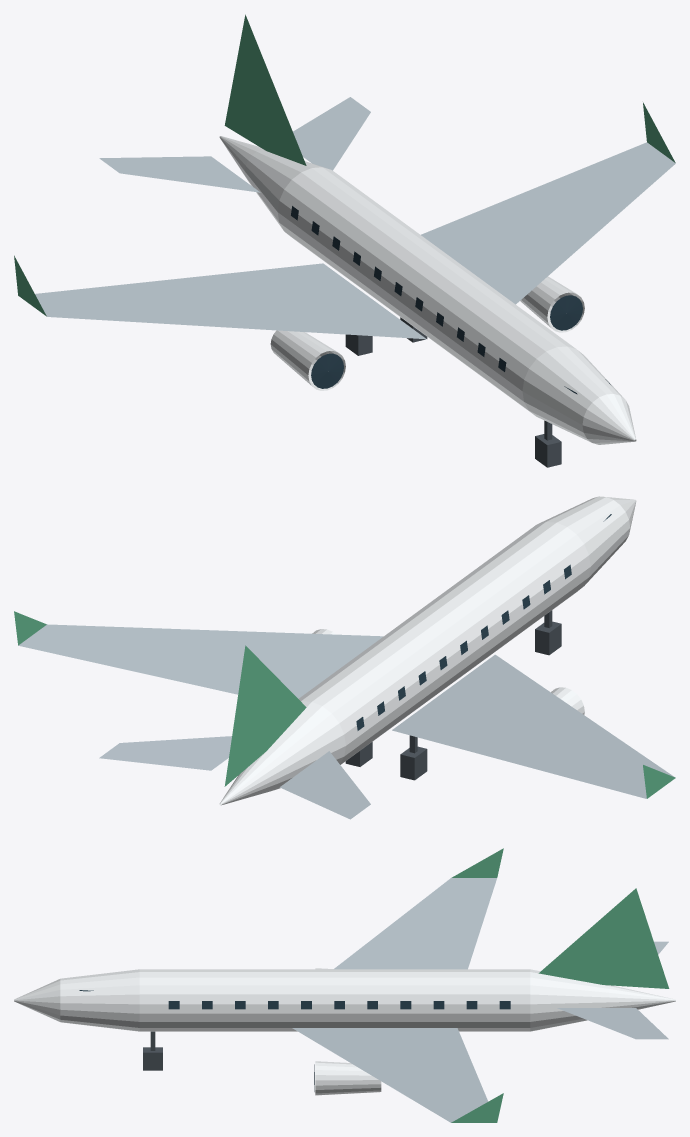
The model's file is b737-ETH.gltf.
3 renders of one model, top to bottom at view 1: azimuth 30°, elevation 25°; view 2: azimuth 150°, elevation 25°; view 3: azimuth 270°, elevation 25°, orthographic. The views are drawn at different scales.
Parts seen in each view (by area): view 1: object 1, Gear; view 2: object 1, Gear; view 3: object 1, Gear.
Part boxes in pixels (box(x1,y1,x2,y2)): object 1: box(14, 14, 675, 444); Gear: box(345, 317, 561, 467); object 1: box(14, 496, 675, 819); Gear: box(345, 610, 561, 780); object 1: box(14, 848, 675, 1122); Gear: box(143, 1031, 162, 1070).
Size of the model in its own units: 35 by 12 by 40.
